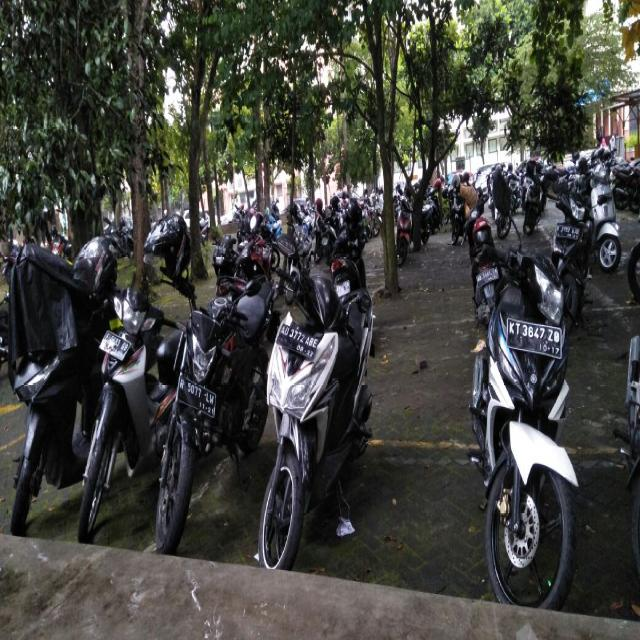plate: (506, 320, 562, 352), (177, 374, 216, 416), (278, 320, 318, 354), (98, 326, 132, 364)
